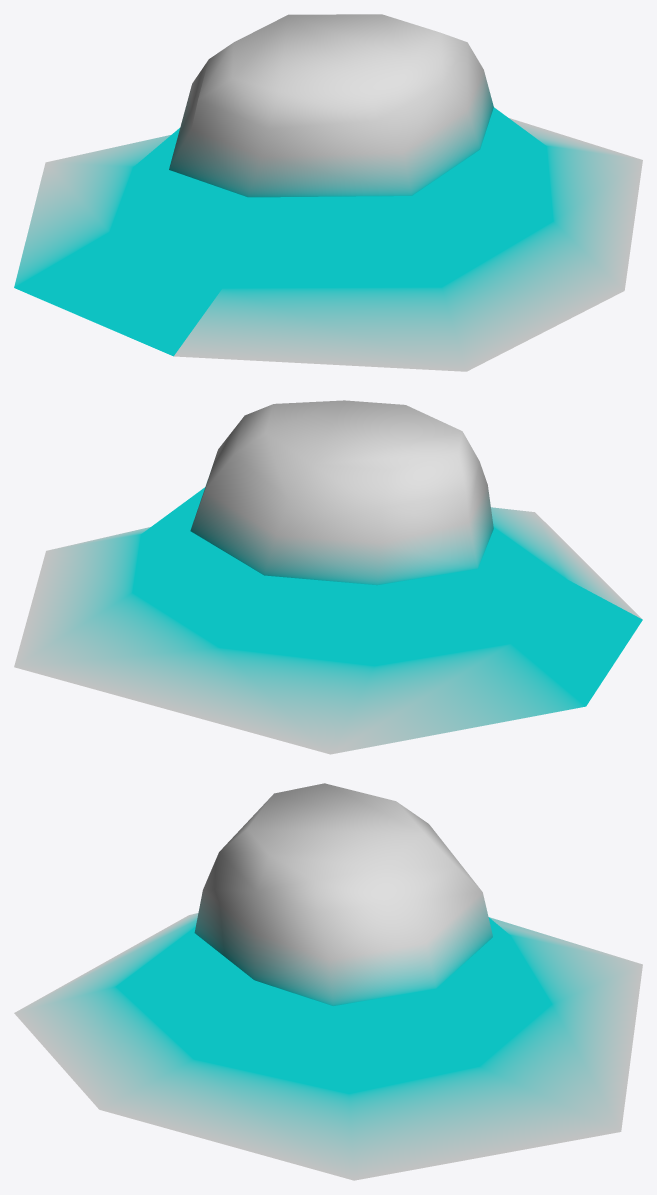
The model's file is Side-forest-water_island_02.glb.
3 renders of one model, top to bottom at view 1: azimuth 30°, elevation 25°; view 2: azimuth 150°, elevation 25°; view 3: azimuth 270°, elevation 25°, orthographic. The views are drawn at different scales.
Visible parts, largest first — view 1: Side-forest-water_island_02; view 2: Side-forest-water_island_02; view 3: Side-forest-water_island_02.
Boxes of the visible parts, x1,y1,x2,y2 form: Side-forest-water_island_02: (14,14,642,371); Side-forest-water_island_02: (14,400,642,754); Side-forest-water_island_02: (14,783,642,1180).
Size of the model in its own units: 15.8 by 4.92 by 14.52.
